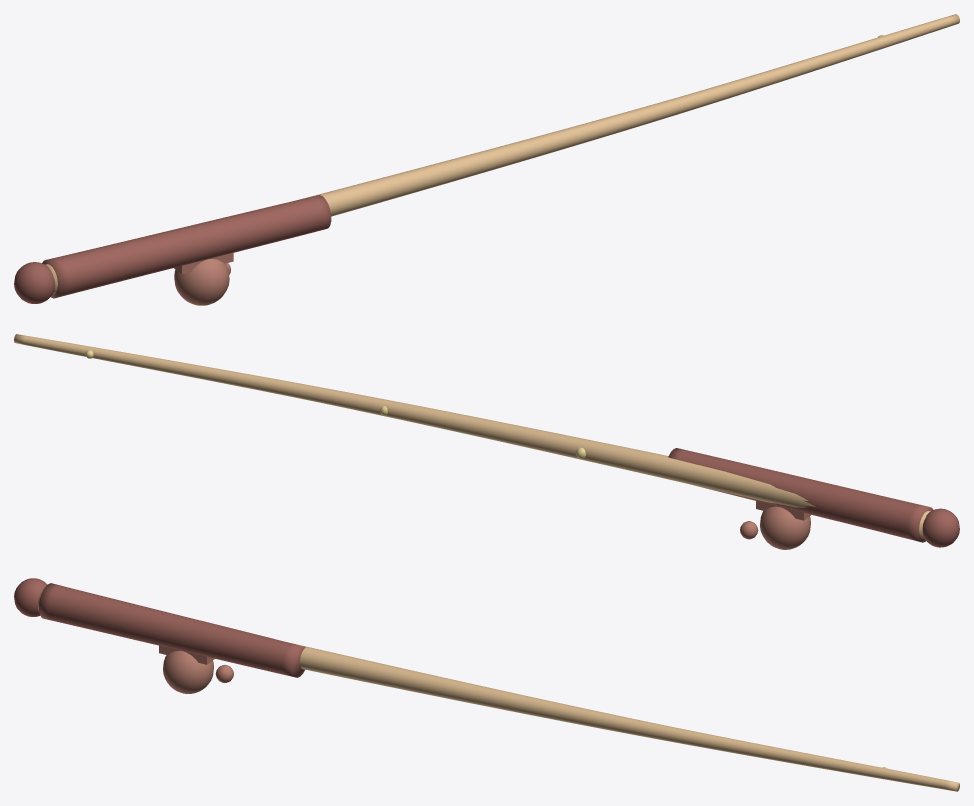
The model's file is rod_v2.glb.
The picture shows the model from 3 angles, top to bottom: view 1: azimuth 30°, elevation 25°; view 2: azimuth 150°, elevation 25°; view 3: azimuth 330°, elevation 25°; orthographic projection. The views are drawn at different scales.
Parts seen in each view (by area): view 1: Shaft, Grip, ReelSpool, ButtCap; view 2: Shaft, Grip, ReelSpool, ButtCap; view 3: Shaft, Grip, ReelSpool, ButtCap.
Boxes of the visible parts, box(x1,y1,x2,y2) form: Shaft: box(45, 14, 959, 294); Grip: box(42, 195, 331, 298); ReelSpool: box(174, 259, 229, 305); ButtCap: box(14, 262, 55, 303); Shaft: box(14, 334, 930, 538); Grip: box(668, 448, 933, 542); ReelSpool: box(760, 506, 810, 549); ButtCap: box(922, 508, 959, 547); Shaft: box(38, 587, 959, 791); Grip: box(39, 583, 305, 677); ReelSpool: box(163, 651, 213, 693); ButtCap: box(14, 578, 47, 616).
Size of the model in its own units: 0.5679 by 0.0446 by 0.0561.
